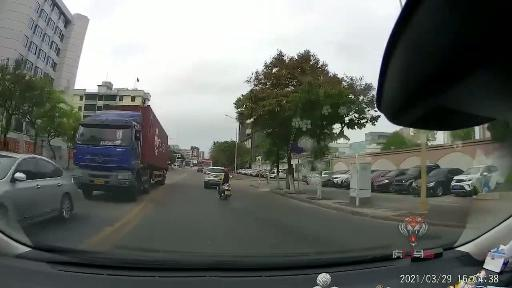Bike: (218, 171, 235, 199)
CAR: (3, 153, 77, 229), (329, 170, 412, 191), (454, 166, 495, 195), (418, 172, 449, 196), (205, 164, 232, 187)
Truck: (72, 105, 170, 196)
